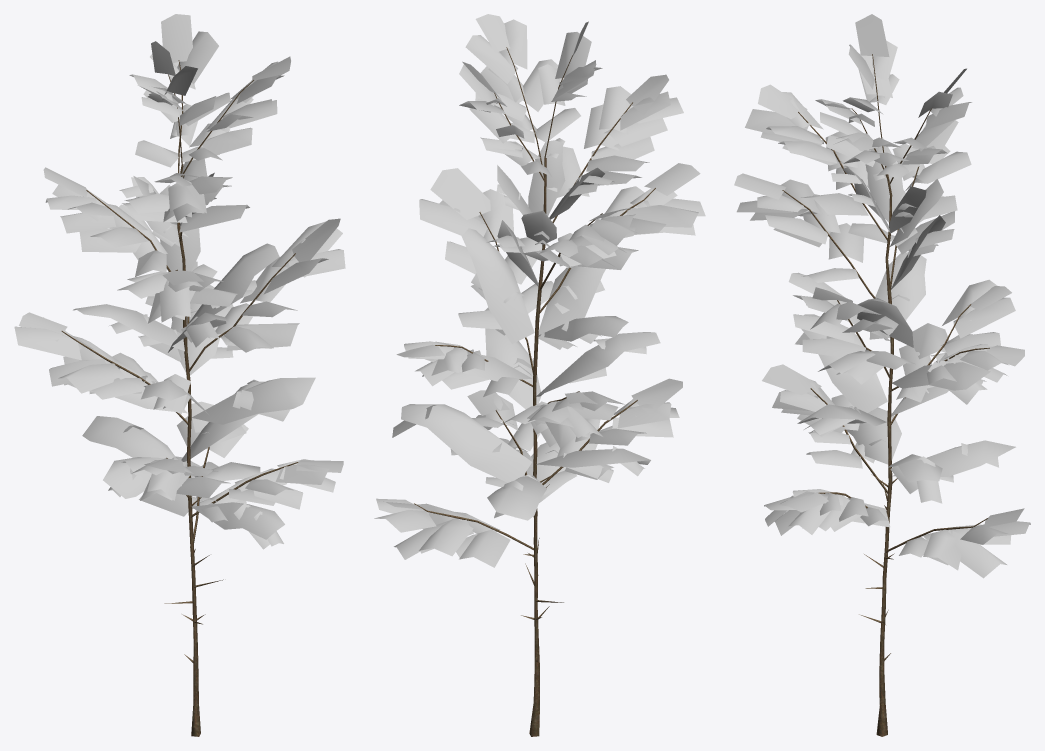
The model's file is Tree_Small2_LOD2.fbx.
3 renders of one model, left to right at view 1: azimuth 30°, elevation 25°; view 2: azimuth 150°, elevation 25°; view 3: azimuth 270°, elevation 25°, orthographic. The views are drawn at different scales.
Visible parts, largest first — view 1: polySurface20; view 2: polySurface20; view 3: polySurface20.
Boxes of the visible parts, box(x1,y1,x2,y2) form: polySurface20: box(14, 14, 345, 736); polySurface20: box(374, 14, 705, 736); polySurface20: box(734, 14, 1030, 736).
Size of the model in its own units: 177 by 457 by 176.
